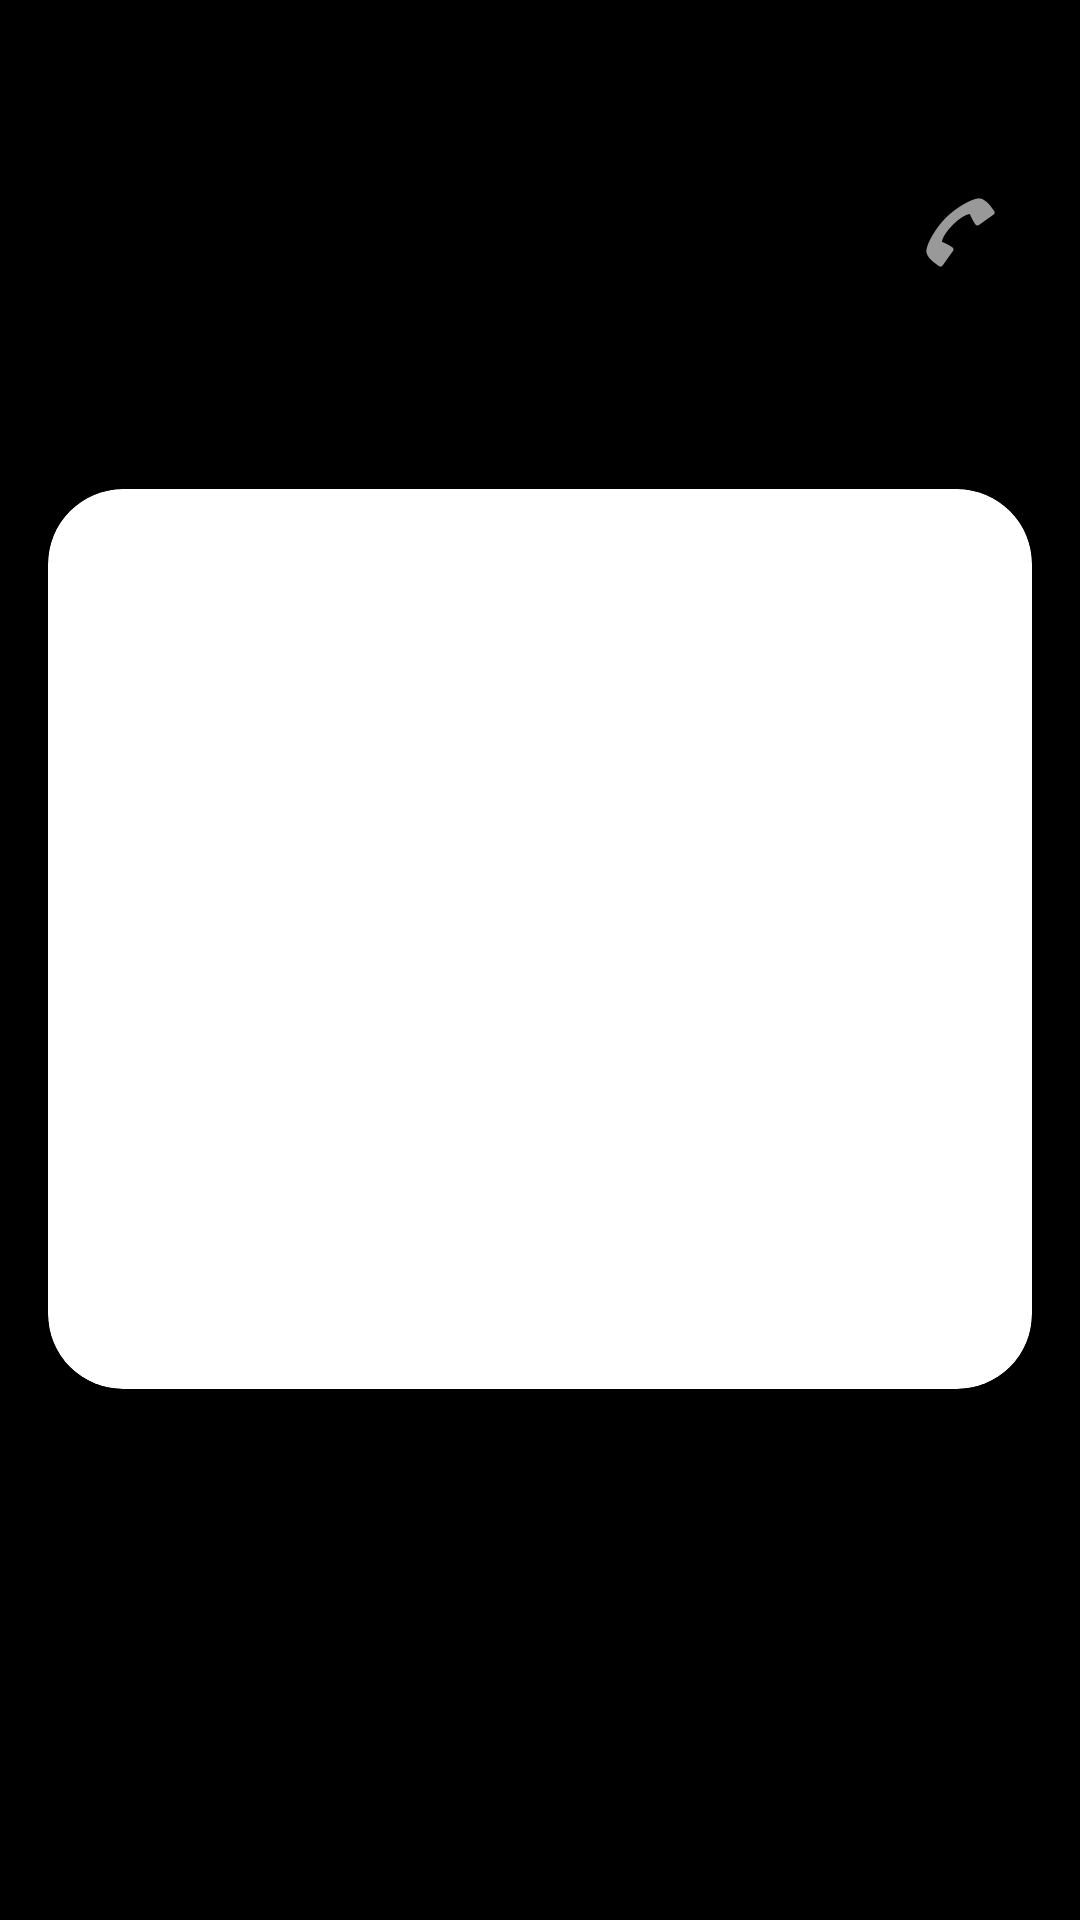

Point at icon controls on the screen. Image size 1080*1920, points as (x=x, y=y).
call: (x=960, y=232)
